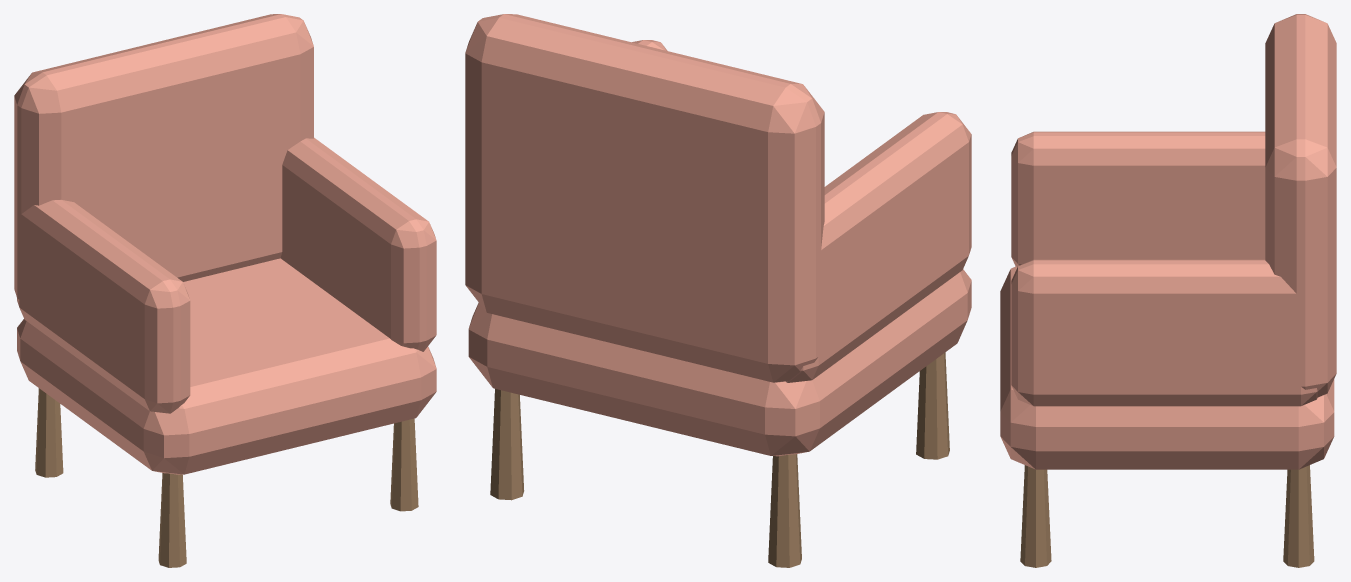
File: cozy-home-interiors-armchair-53de7ce5.glb
3 renders of one model, left to right at view 1: azimuth 30°, elevation 25°; view 2: azimuth 150°, elevation 25°; view 3: azimuth 270°, elevation 25°, orthographic. The views are drawn at different scales.
Parts seen in each view (by area): view 1: armchair; view 2: armchair; view 3: armchair.
Boxes of the visible parts, x1,y1,x2,y2 form: armchair: [14, 14, 436, 567]; armchair: [465, 14, 971, 567]; armchair: [1000, 14, 1336, 567].
Size of the model in its own units: 0.8 by 1.05 by 0.755.
